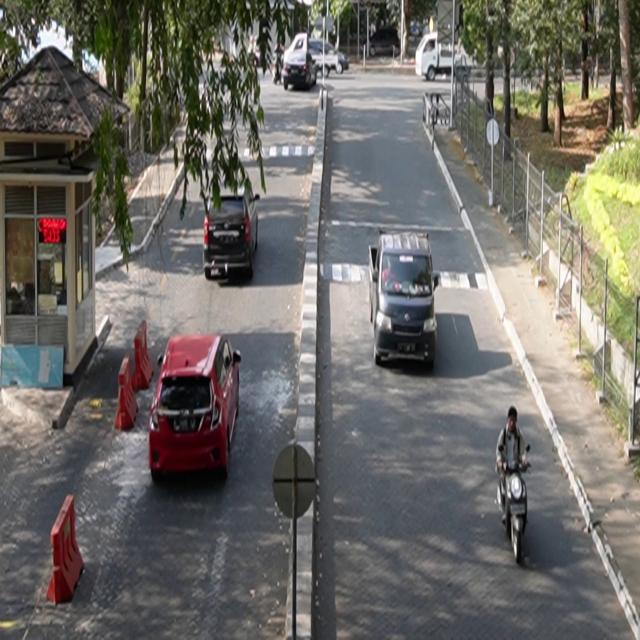car: (150, 334, 243, 482), (369, 230, 441, 369), (204, 177, 261, 281)
